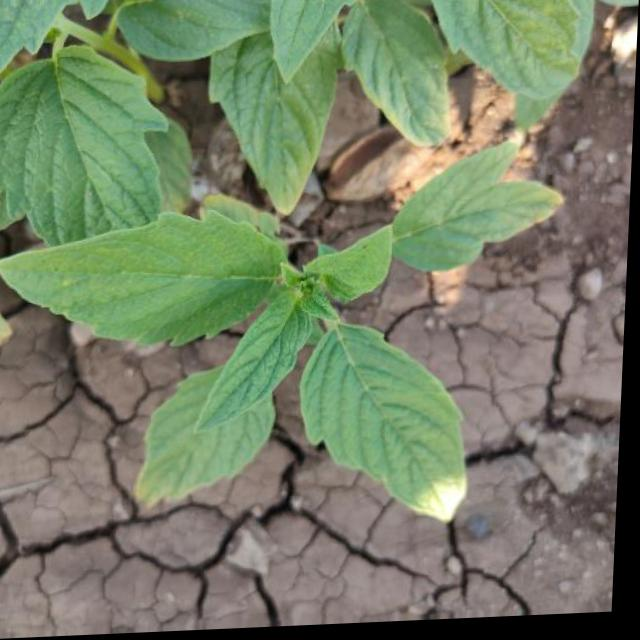crop: (0, 0, 619, 521)
